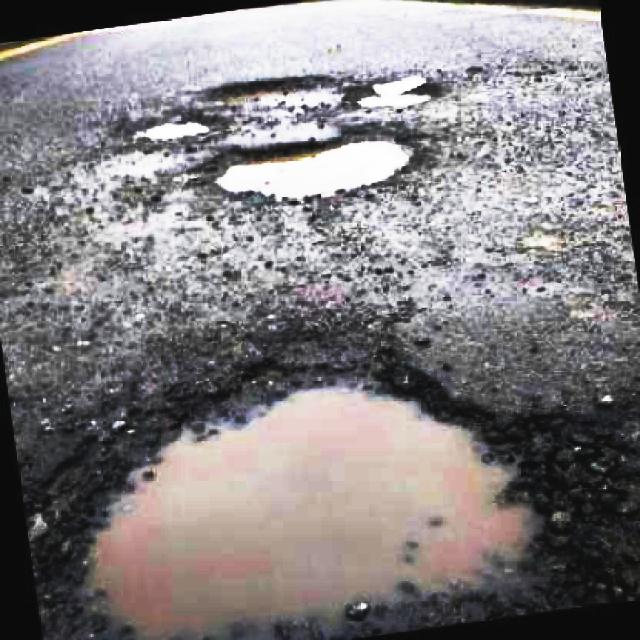pothole: (0, 324, 640, 640), (200, 129, 420, 202), (211, 69, 351, 111), (362, 71, 442, 117), (128, 114, 218, 149)
